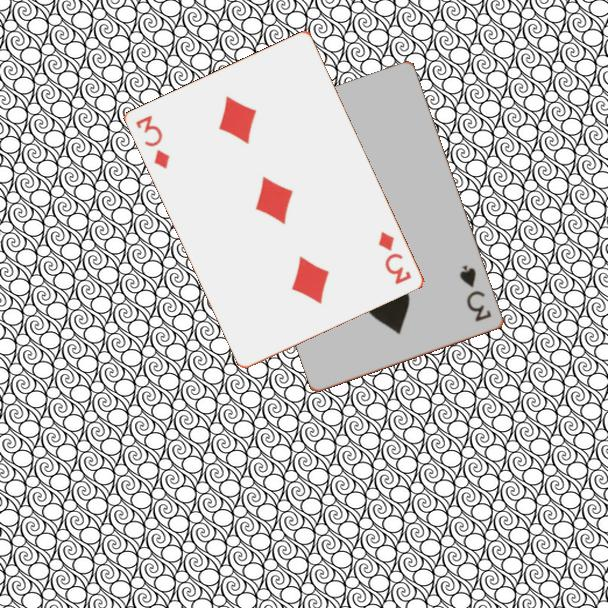d03: (132, 112, 173, 172), (375, 228, 415, 288)
s03: (456, 261, 495, 325)
